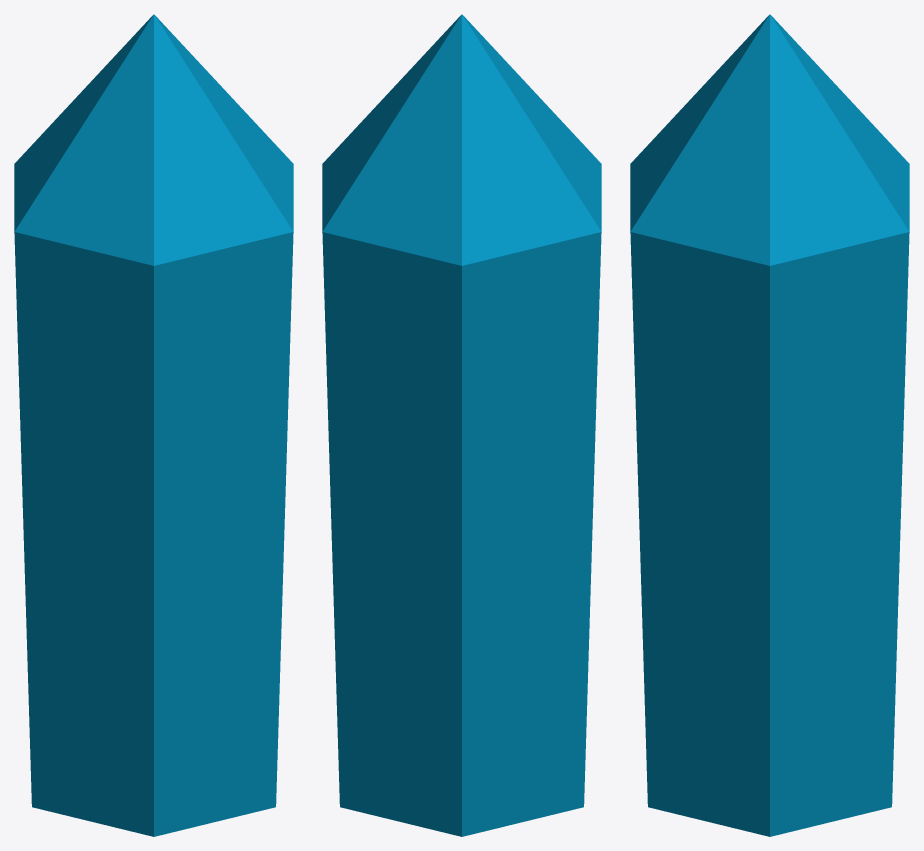
Rendered from Crystal 1.fbx.
The picture shows the model from 3 angles, left to right: view 1: azimuth 30°, elevation 25°; view 2: azimuth 150°, elevation 25°; view 3: azimuth 270°, elevation 25°; orthographic projection.
Parts seen in each view (by area): view 1: Crystal_1; view 2: Crystal_1; view 3: Crystal_1.
Boxes of the visible parts, x1,y1,x2,y2 form: Crystal_1: (14,14,293,836); Crystal_1: (322,14,601,836); Crystal_1: (630,14,909,836).
Bounding box in the file's own units: 36.15 × 94.47 × 31.3.
Materials: 1 (1 with a texture image).
